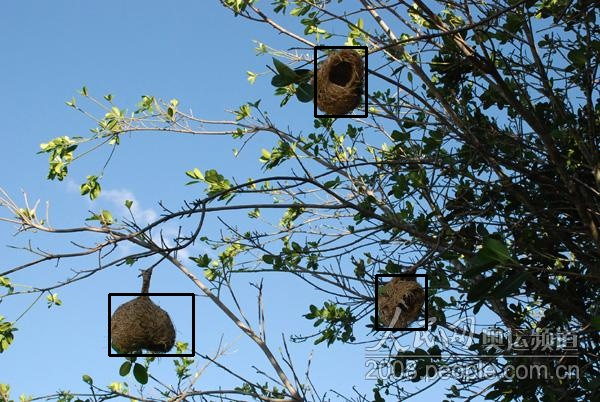bird-nest: (109, 294, 193, 355), (315, 47, 366, 116), (376, 275, 426, 329)
